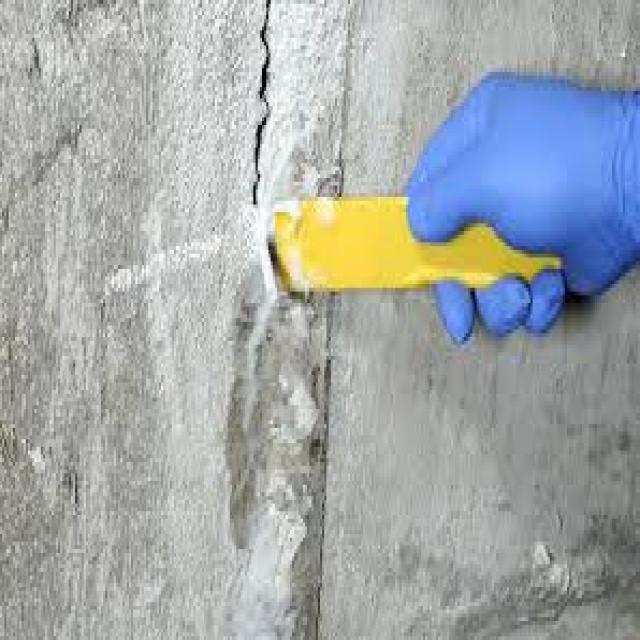Crack: (247, 0, 273, 201)
